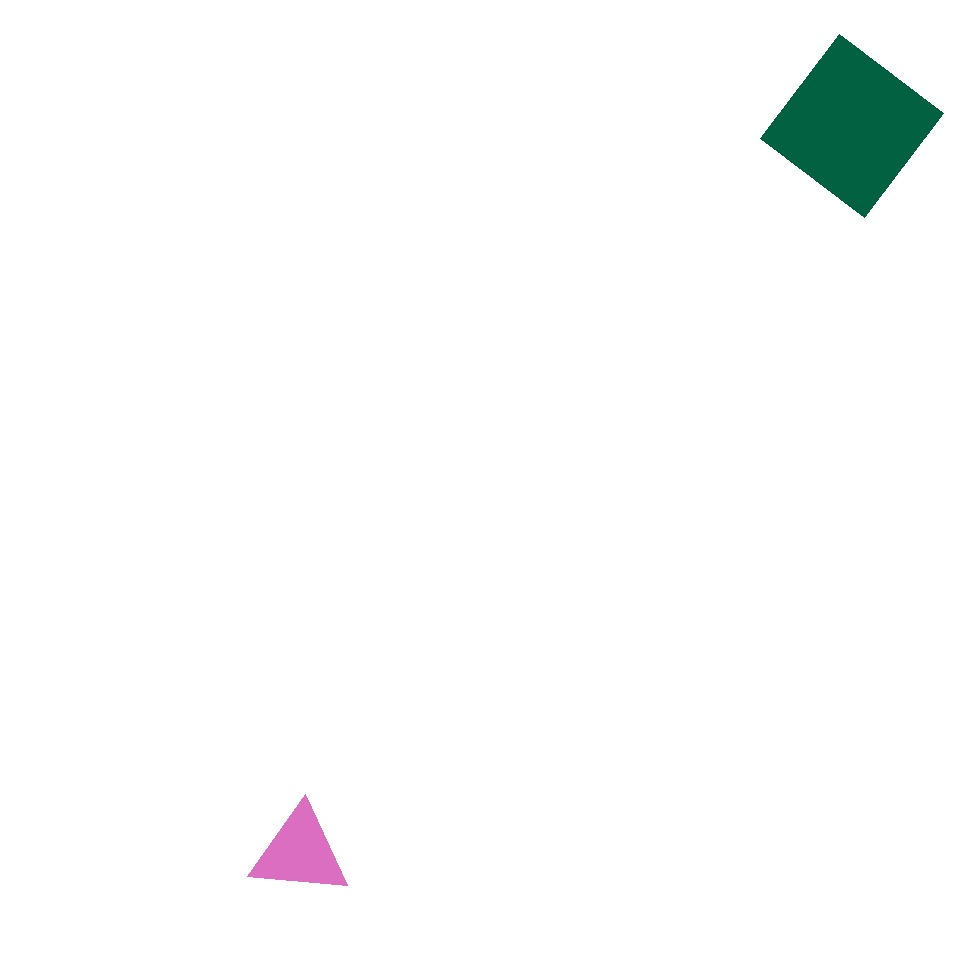circle: (283, 262, 586, 542), (250, 806, 350, 897)
square: (266, 18, 480, 232), (760, 35, 944, 218)
triangle: (189, 380, 550, 742)
